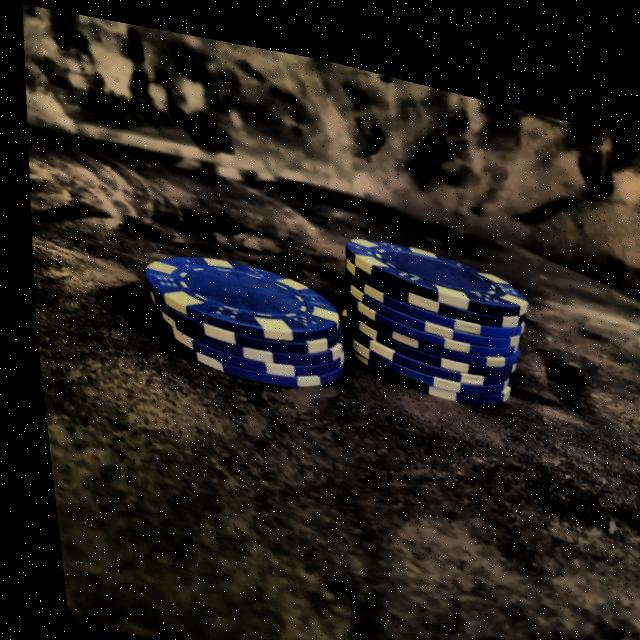Chip: (324, 189, 532, 413), (127, 217, 346, 402)
